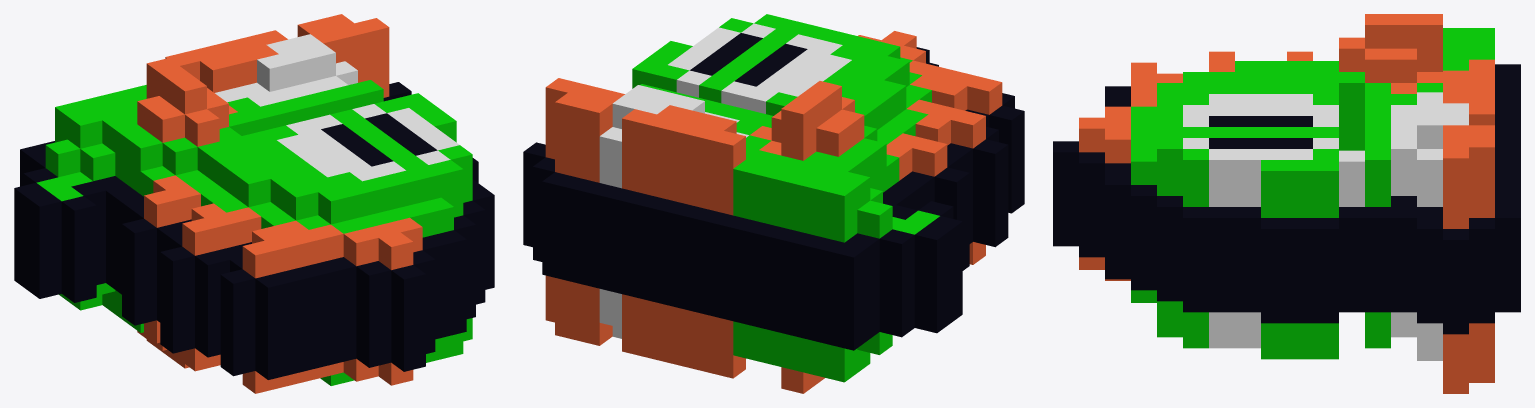
Rendered from dino-walk2.obj.
3 views of the same model, side by side, from view 1: azimuth 30°, elevation 25°; view 2: azimuth 150°, elevation 25°; view 3: azimuth 270°, elevation 25° (orthographic).
Size of the model in its own units: 1.8 by 1.2 by 1.8.
Materials: 1 (1 with a texture image).
